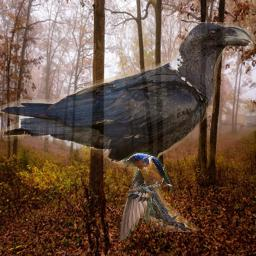Crow: (0, 22, 255, 232)
Swallow: (118, 152, 174, 241)
